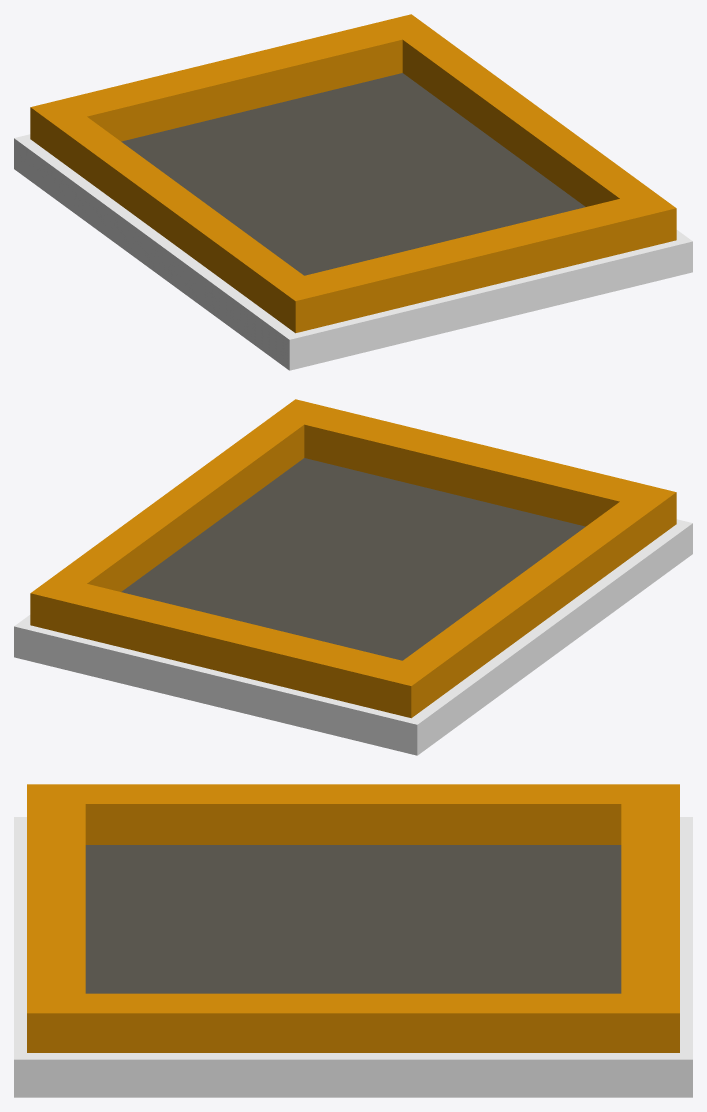
File: CityBuildingA_01_roof.fbx
The picture shows the model from 3 angles, top to bottom: view 1: azimuth 30°, elevation 25°; view 2: azimuth 150°, elevation 25°; view 3: azimuth 270°, elevation 25°; orthographic projection. The views are drawn at different scales.
Visible parts, largest first — view 1: CityBuildingA_01_roof; view 2: CityBuildingA_01_roof; view 3: CityBuildingA_01_roof.
Part boxes in pixels (<box>): CityBuildingA_01_roof: <box>14,14,692,370</box>; CityBuildingA_01_roof: <box>14,399,692,755</box>; CityBuildingA_01_roof: <box>14,784,692,1097</box>.
Size of the model in its own units: 0.4778 by 0.0713 by 0.5653.
